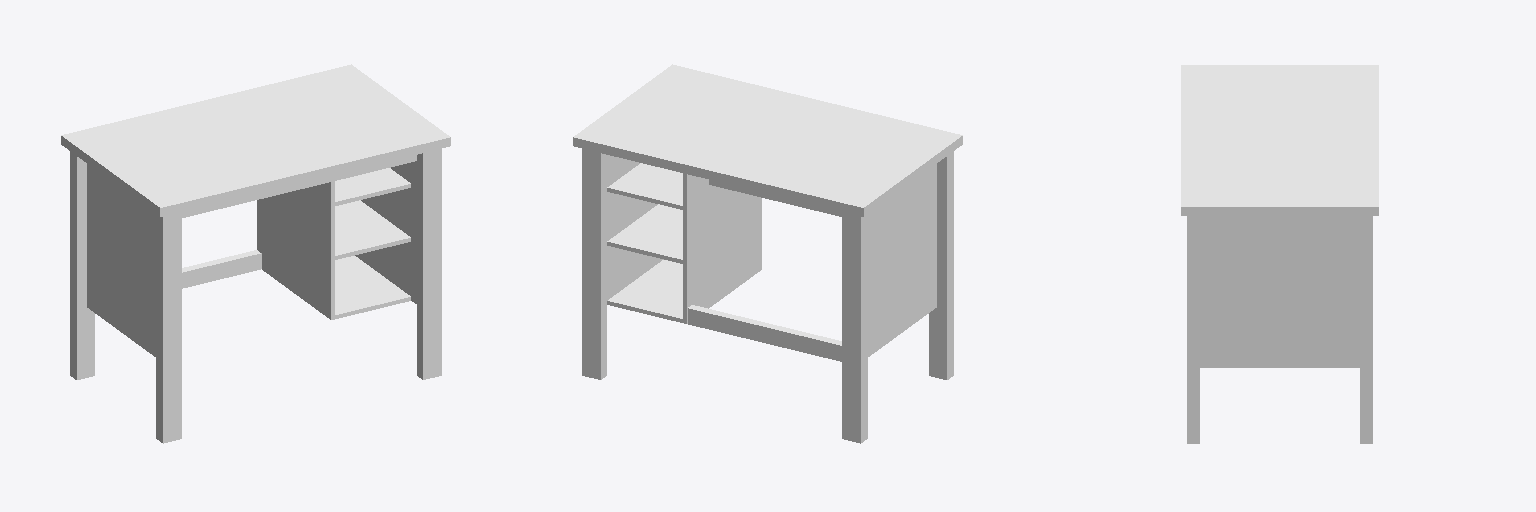
Rendered from БРУСАЛИ.obj.
The picture shows the model from 3 angles: view 1: azimuth 30°, elevation 25°; view 2: azimuth 150°, elevation 25°; view 3: azimuth 270°, elevation 25°; orthographic projection.
Visible parts, largest first — view 1: Cube.005_Cube.006; view 2: Cube.005_Cube.006; view 3: Cube.005_Cube.006.
Part boxes in pixels (x1,y1,x2,y2): Cube.005_Cube.006: (61,64,450,443); Cube.005_Cube.006: (573,64,962,443); Cube.005_Cube.006: (1181,65,1378,443).
Bounding box in the file's own units: 1.88 × 1.48 × 1.11.